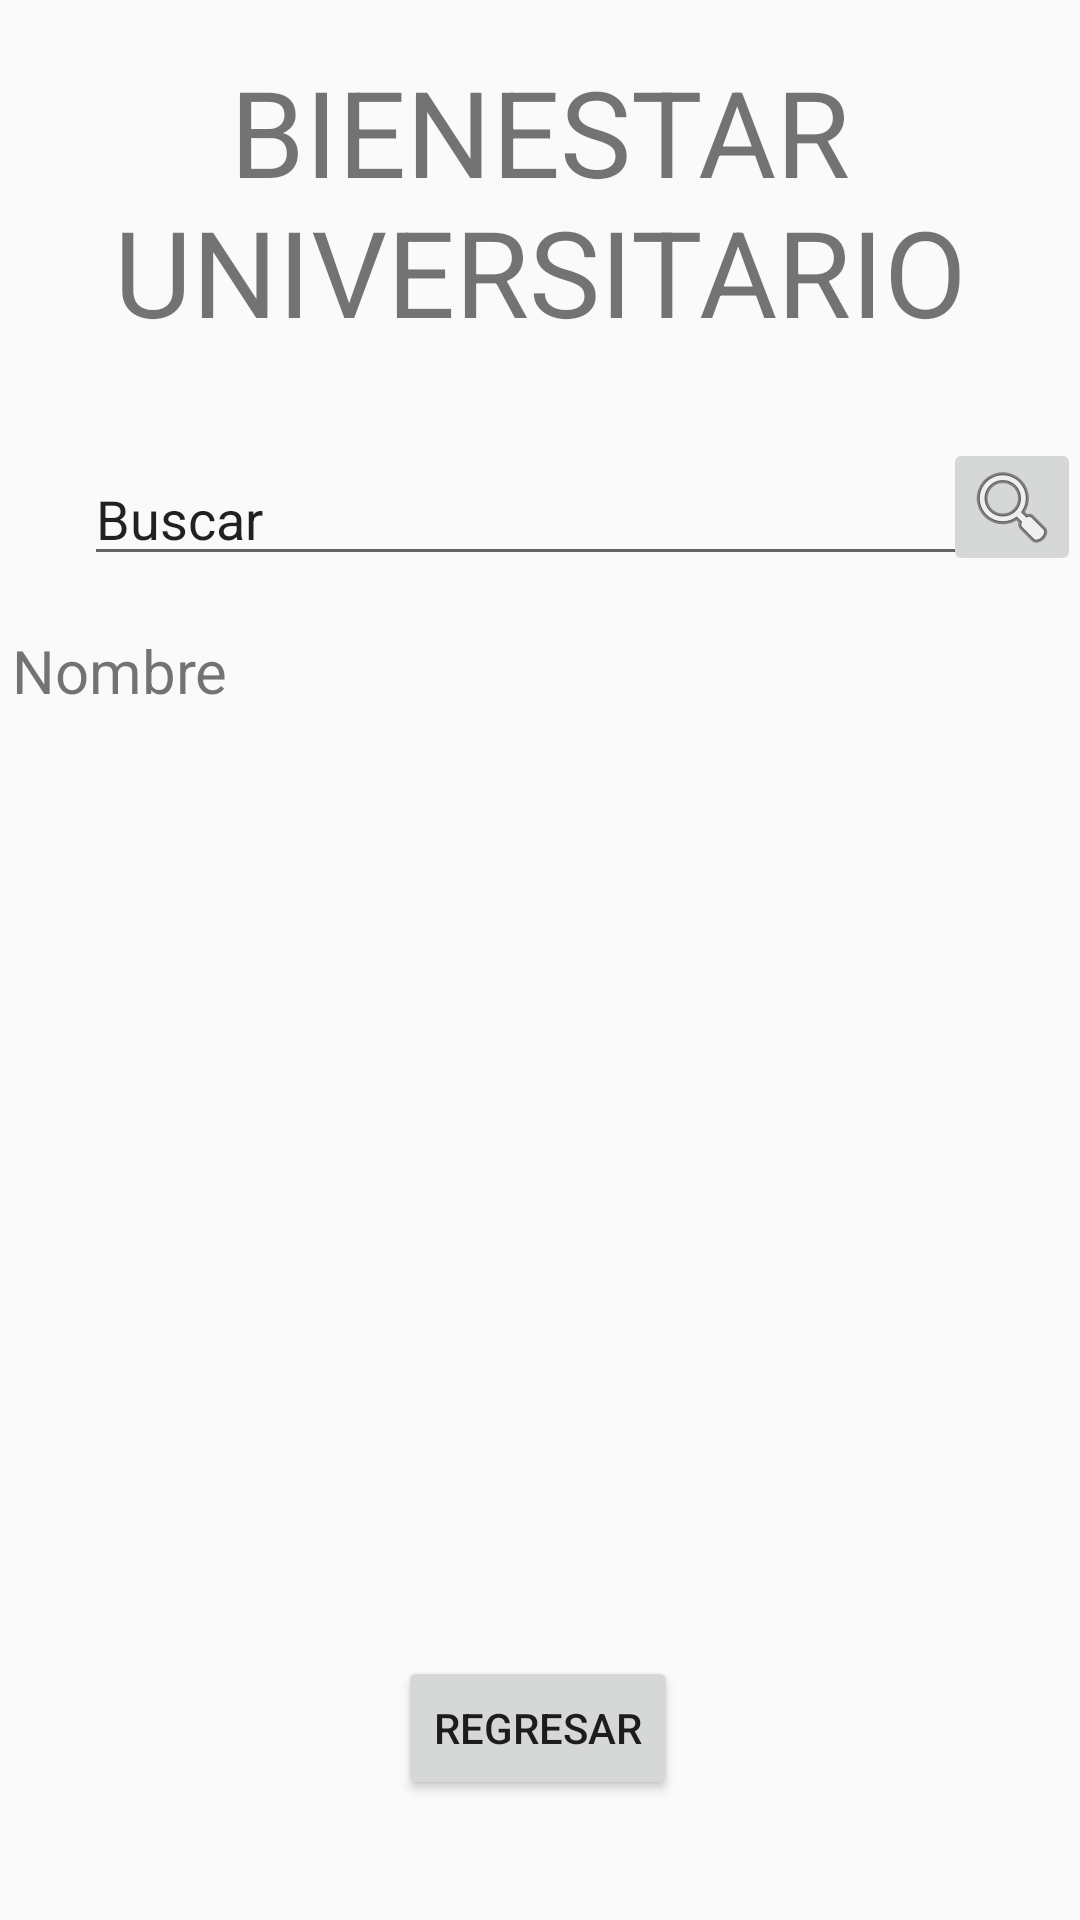

Point at icon controls on the screen. Image size 1080px×1920px, points as point (x, y).
search: point (1006, 507)
